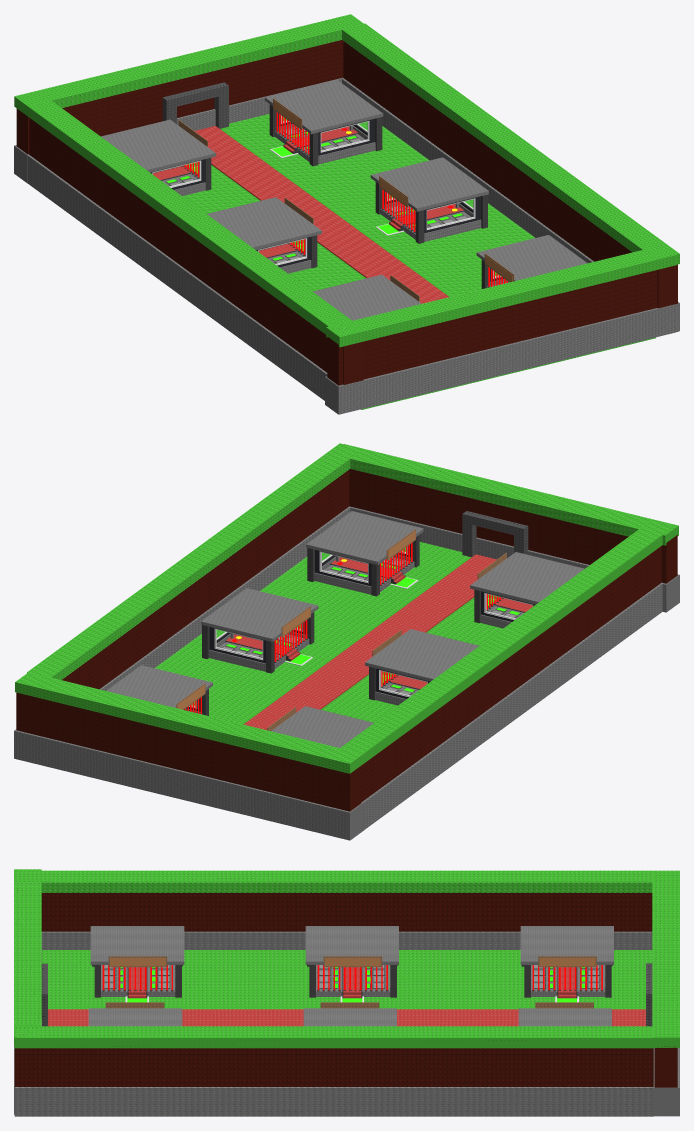
Rendered from steal_a_brainrot_map.glb.
3 views of the same model, one above another, from view 1: azimuth 30°, elevation 25°; view 2: azimuth 150°, elevation 25°; view 3: azimuth 270°, elevation 25° (orthographic). The views are drawn at different scales.
Parts seen in each view (by area): view 1: Map, Base, Base.001; view 2: Map, Base, Base.001; view 3: Map, Base.001, Base.
Part boxes in pixels (x1,y1,x2,y2): Map: (14, 14, 679, 414); Base: (265, 80, 587, 288); Base.001: (101, 119, 421, 320); Map: (14, 443, 679, 840); Base: (106, 511, 423, 715); Base.001: (267, 552, 584, 747); Map: (14, 869, 679, 1116); Base.001: (90, 926, 613, 1002); Base: (88, 1002, 611, 1026).
Size of the model in its own units: 3.21 by 0.7057 by 5.34.
Materials: 23 (11 with a texture image).
